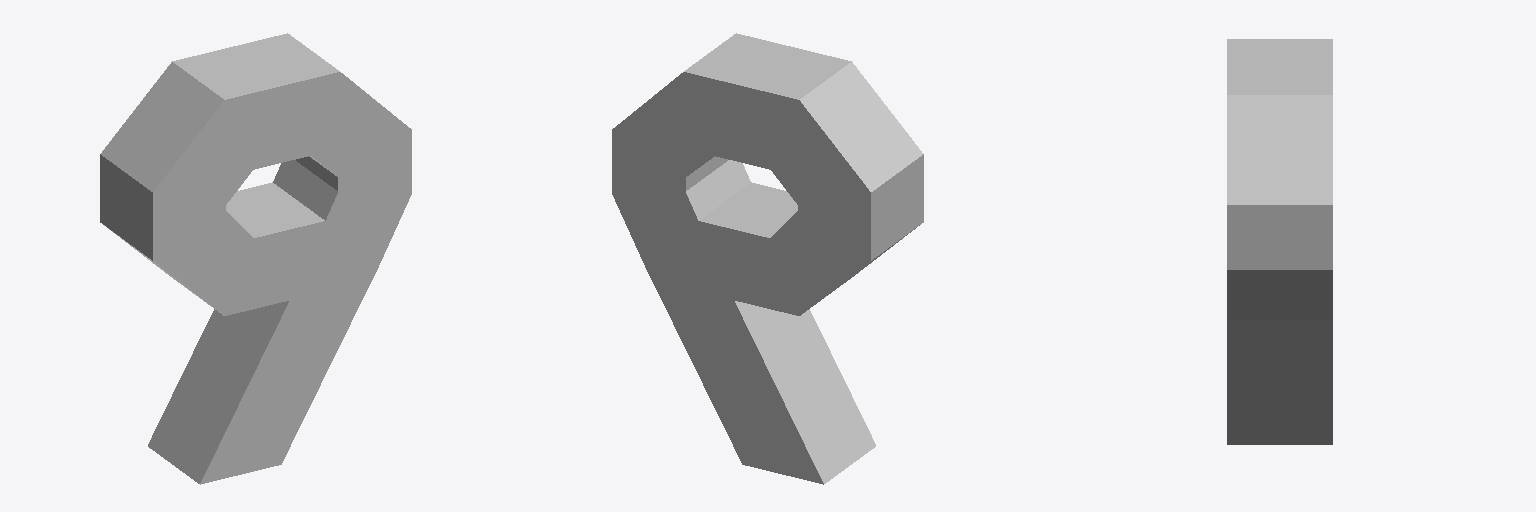
3 views of the same model, side by side, from view 1: azimuth 30°, elevation 25°; view 2: azimuth 150°, elevation 25°; view 3: azimuth 270°, elevation 25° (orthographic).
Parts seen in each view (by area): view 1: text: ABCDEFGHIJKLMNOPQRSTUVWXYZ[number redacted]; view 2: text: ABCDEFGHIJKLMNOPQRSTUVWXYZ[number redacted]; view 3: text: ABCDEFGHIJKLMNOPQRSTUVWXYZ[number redacted].
Part boxes in pixels (bbox=[...]): text: ABCDEFGHIJKLMNOPQRSTUVWXYZ[number redacted]: bbox=[100, 33, 411, 484]; text: ABCDEFGHIJKLMNOPQRSTUVWXYZ[number redacted]: bbox=[612, 33, 923, 484]; text: ABCDEFGHIJKLMNOPQRSTUVWXYZ[number redacted]: bbox=[1227, 39, 1332, 444].
Bounding box in the file's own units: 71.06 × 99.29 × 25.